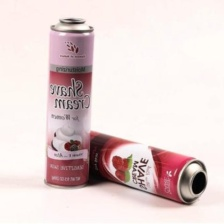aerosol_cans: (51, 114, 209, 207), (41, 15, 98, 190)
